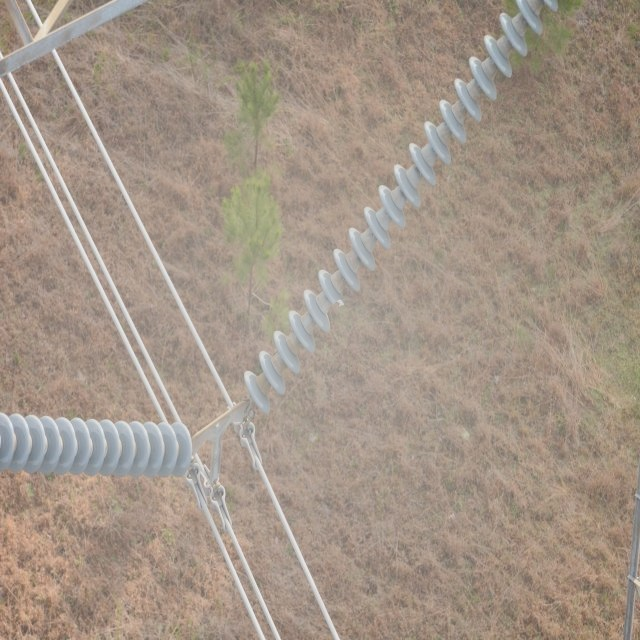broken: (330, 292, 347, 309)
insulator: (241, 0, 560, 414), (0, 411, 194, 479)
